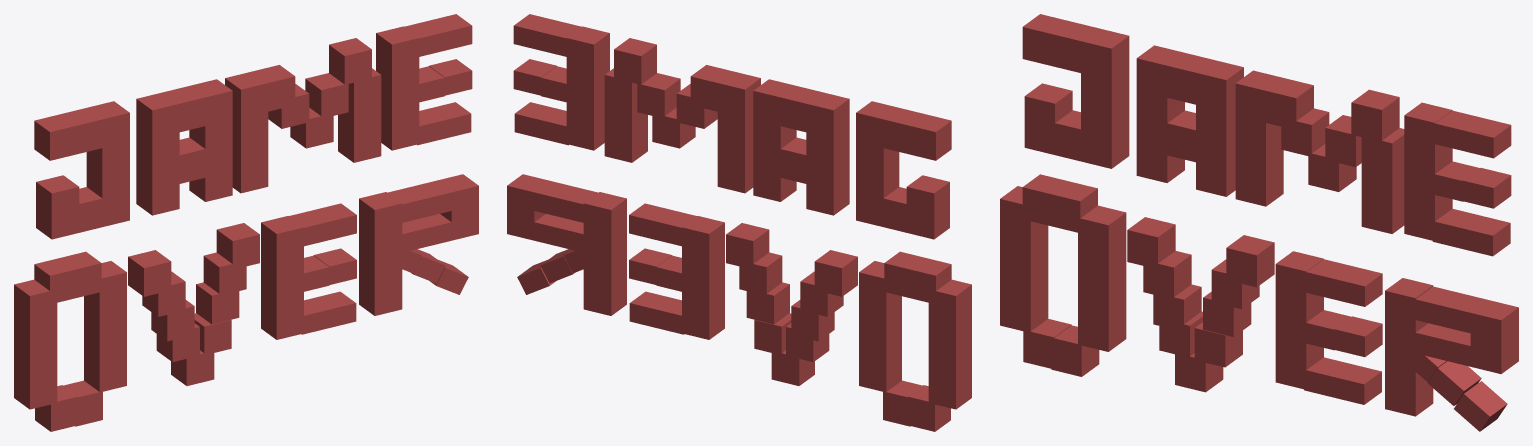
The model's file is Over.fbx.
3 renders of one model, left to right at view 1: azimuth 30°, elevation 25°; view 2: azimuth 150°, elevation 25°; view 3: azimuth 330°, elevation 25°, orthographic. The views are drawn at different scales.
Visible parts, largest first — view 1: pCube89; view 2: pCube89; view 3: pCube89.
Boxes of the visible parts, left/top/right/bottom form: pCube89: left=14, top=14, right=478, bottom=431; pCube89: left=507, top=14, right=971, bottom=431; pCube89: left=1000, top=14, right=1518, bottom=431.
Size of the model in its own units: 16.37 by 10.62 by 1.
